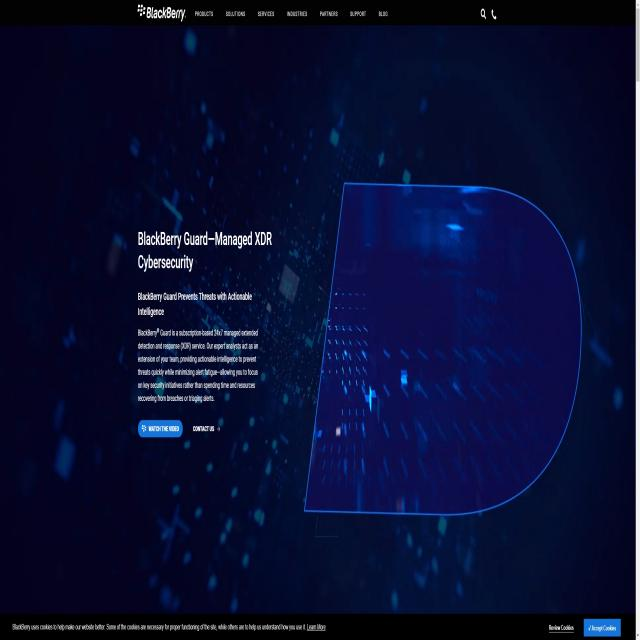content: (135, 287, 261, 409)
menu-bar: (190, 4, 398, 22)
